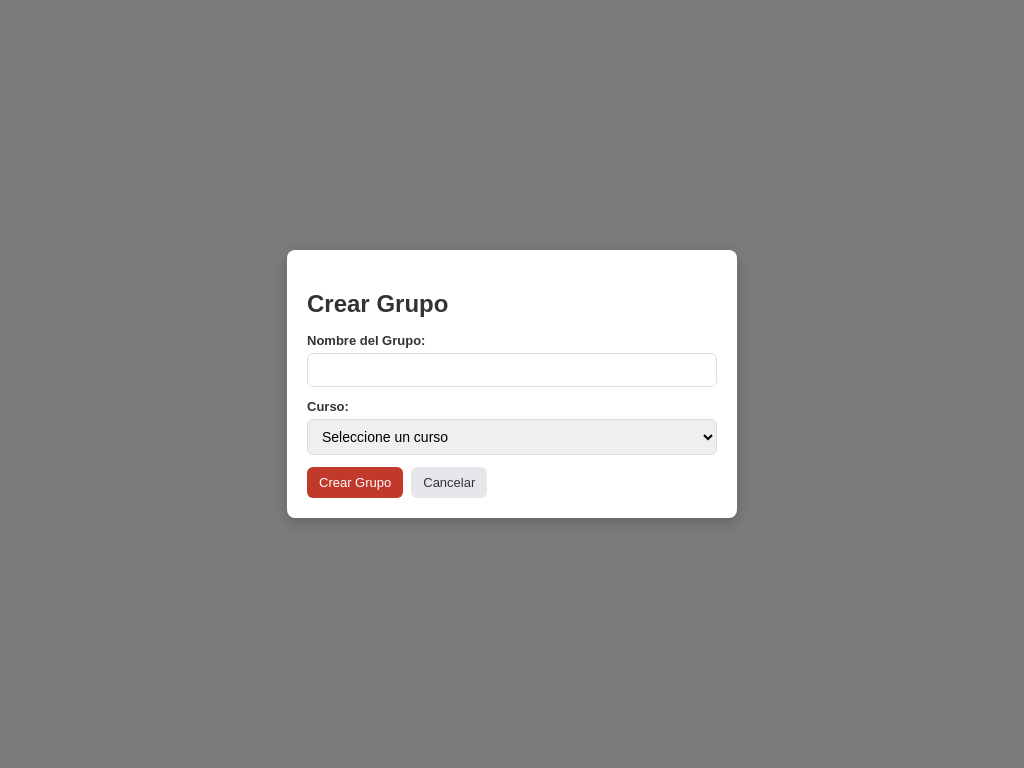
Test case: CreacionGrupo › Validaciones del Formulario › muestra error si se envía el formulario sin nombre de grupo
Expected: the dropdown is shown, [307,419,717,455]
What coordinates should you click on to do the following:
click the button with test id "crearGrupo"
I would click on:
 (355, 482)
Its box is [307,467,403,498].
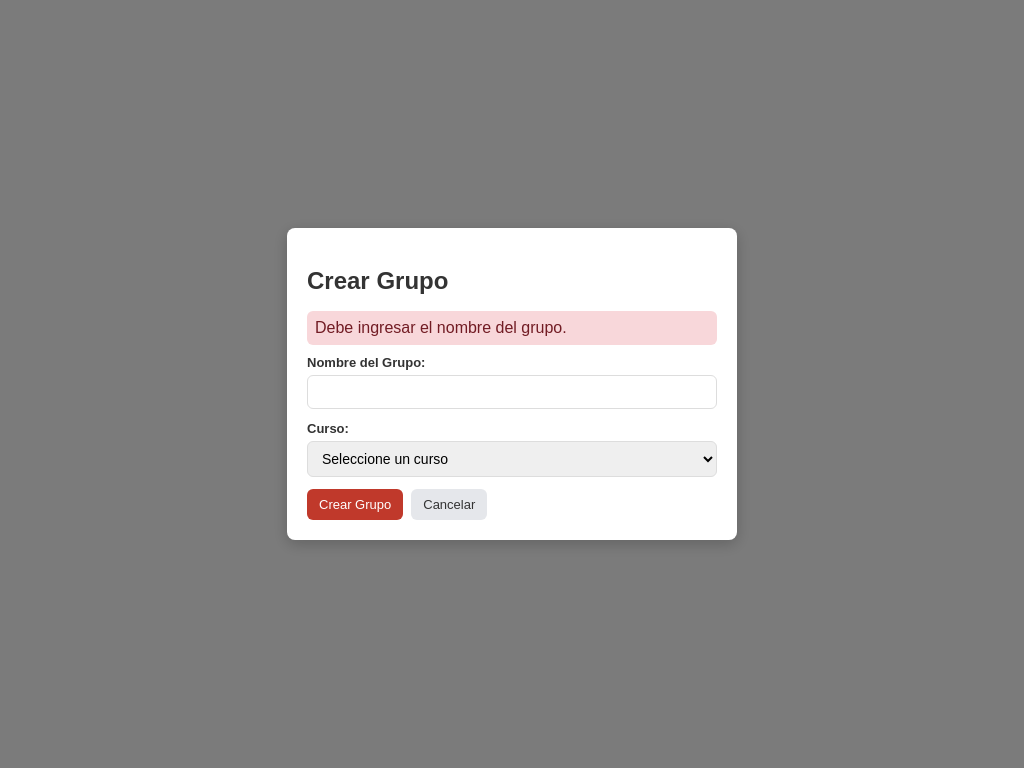
Result: the text "Debe ingresar el nombre del grupo." is shown at [307,312,717,346]
